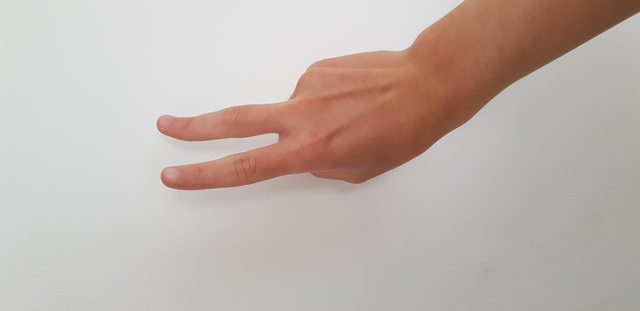Scissors: (123, 34, 487, 216)
